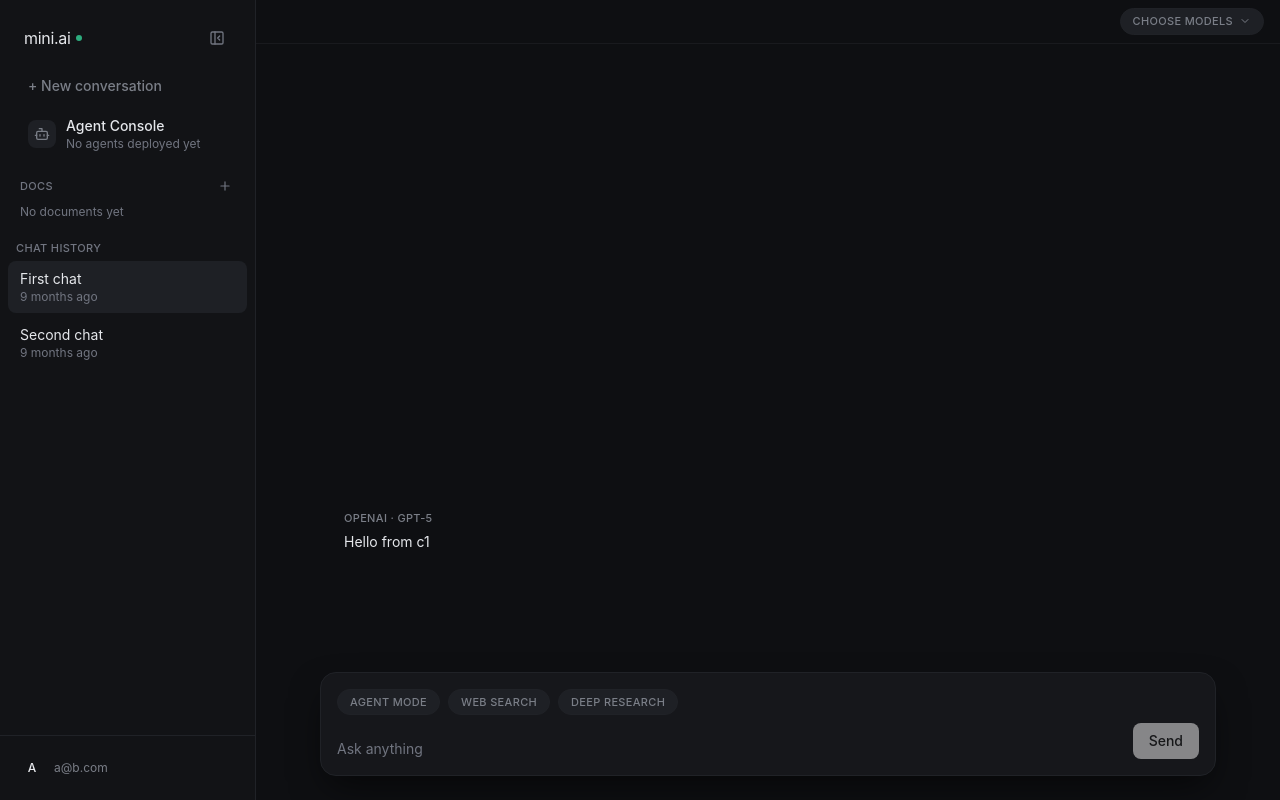
Scenario: Home URL-driven active conversation › switching conversations via the sidebar navigates the URL and swaps the visible messages
This screenshot has width=1280, height=800.
Check: the text "Hello from c1" is shown, box [344,533,430,550]
Step 1. Click the text "Second chat" → (62, 334), box [20,326,103,342]
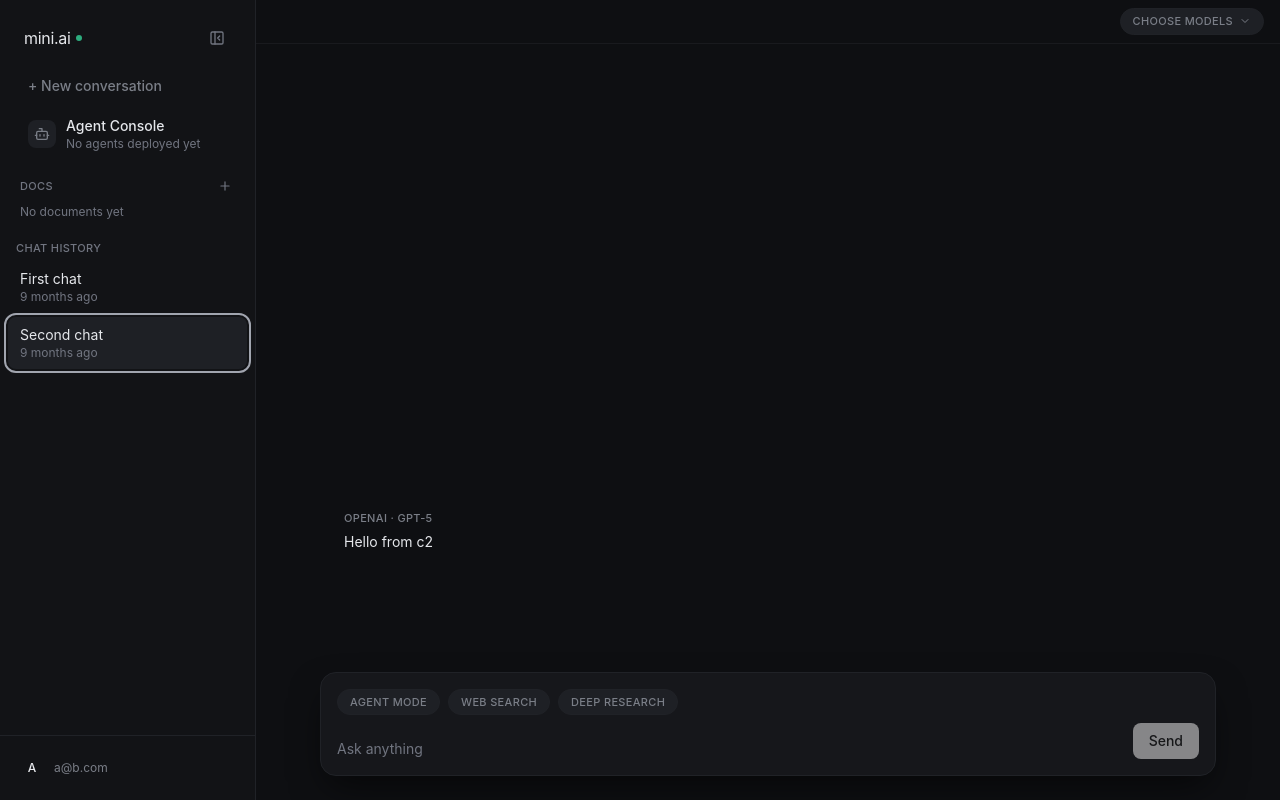
Check: the text "Hello from c2" is shown, box [344,533,433,550]
Check: the text "Hello from c1" is gone
